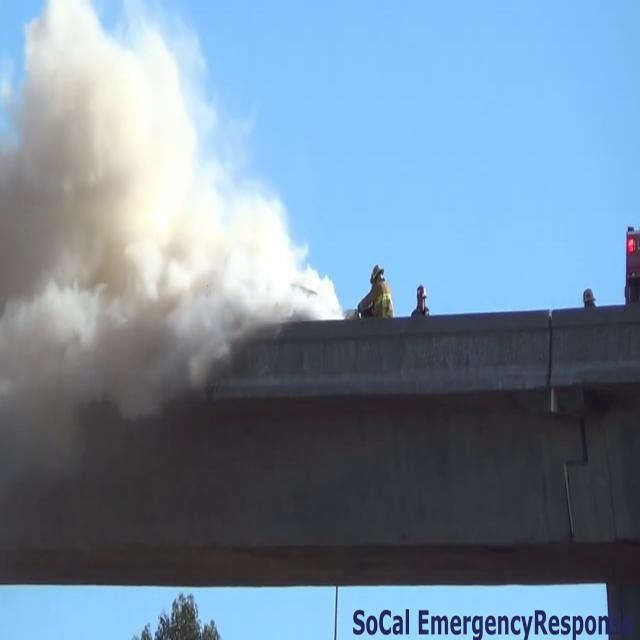Smoke: (0, 0, 346, 384)
